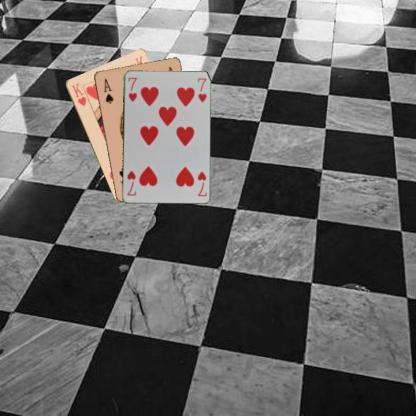7h: (196, 168, 208, 198), (126, 75, 138, 102)
As: (101, 76, 115, 104)
Kh: (68, 80, 88, 107)
